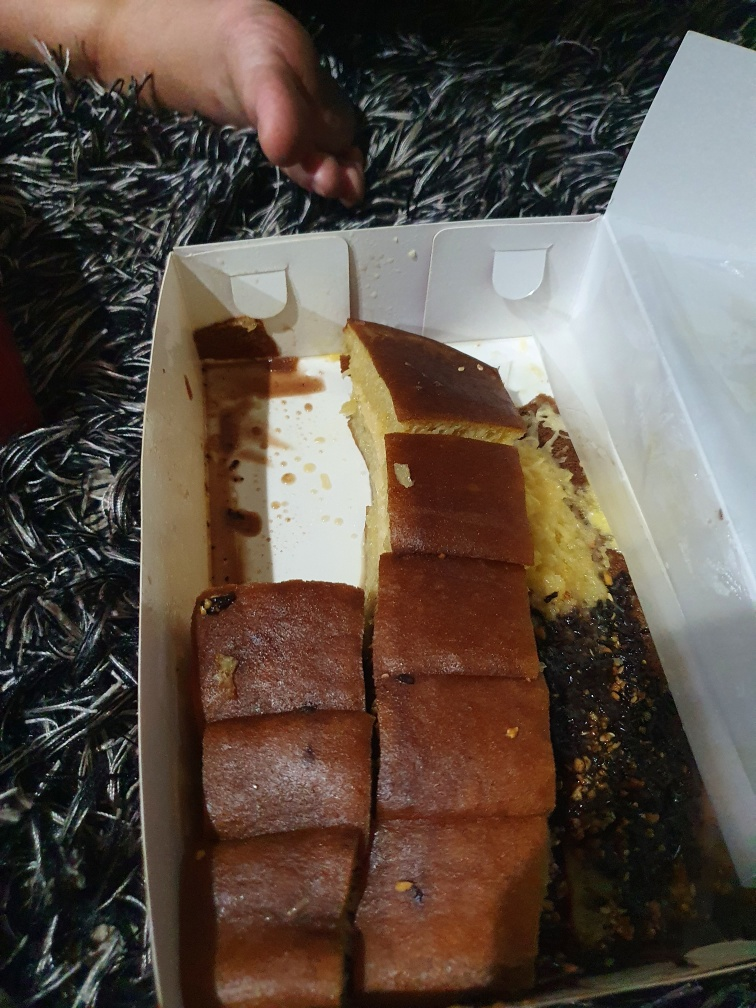martabak manis: (372, 820, 558, 996), (363, 674, 568, 824), (176, 835, 365, 996), (350, 553, 551, 689), (308, 317, 521, 441), (337, 435, 540, 564), (180, 713, 378, 827), (177, 579, 363, 697)
